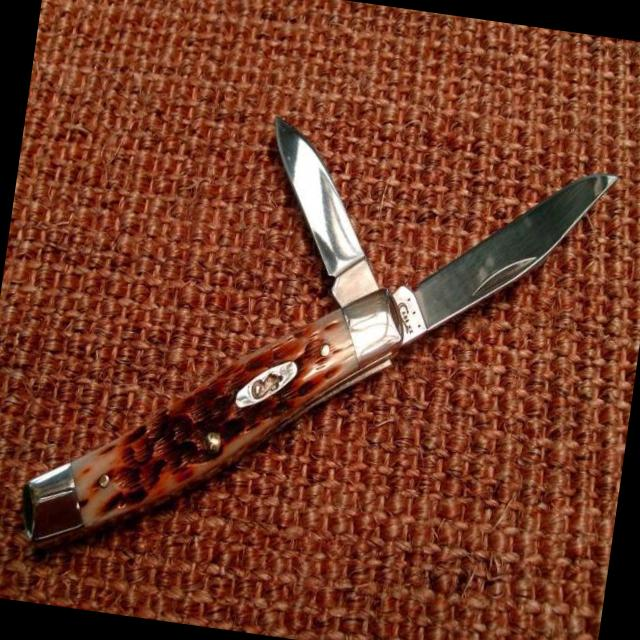Knife: (24, 120, 618, 545)
